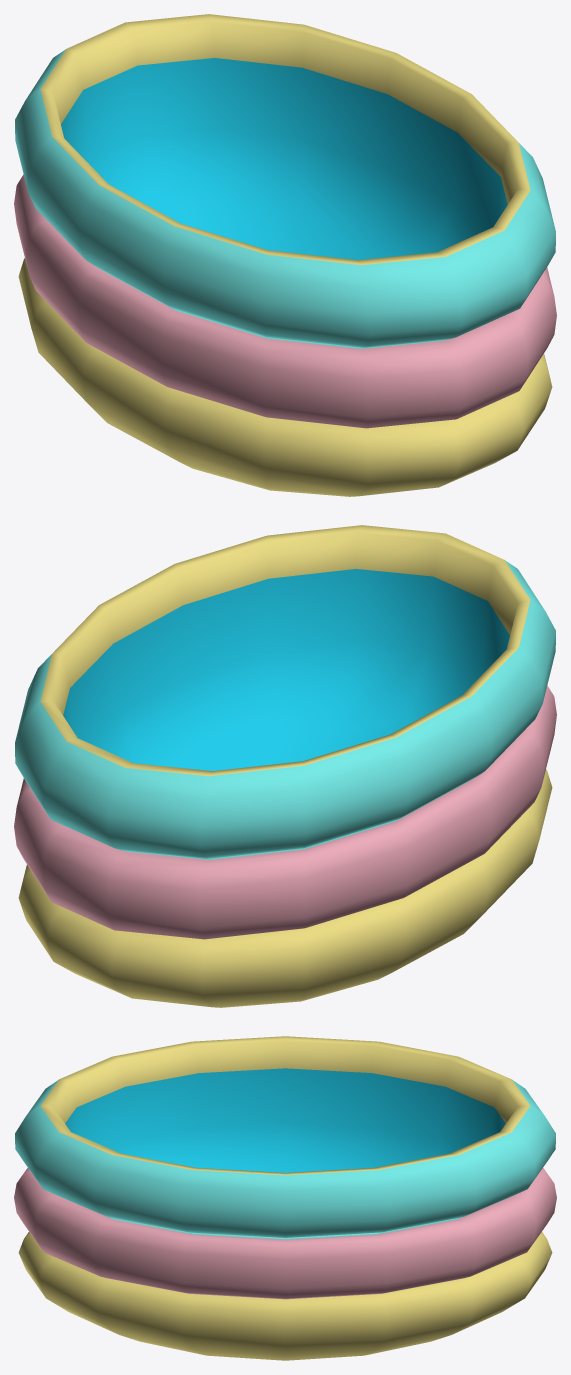
Rendered from BanheiraDeMellows.fbx.
3 renders of one model, top to bottom at view 1: azimuth 30°, elevation 25°; view 2: azimuth 150°, elevation 25°; view 3: azimuth 270°, elevation 25°, orthographic. The views are drawn at different scales.
Parts seen in each view (by area): view 1: Cylinder; view 2: Cylinder; view 3: Cylinder.
Boxes of the visible parts, x1,y1,x2,y2 form: Cylinder: (14, 14, 556, 496); Cylinder: (14, 525, 556, 1007); Cylinder: (14, 1036, 556, 1360).
Size of the model in its own units: 225 by 143 by 335.
